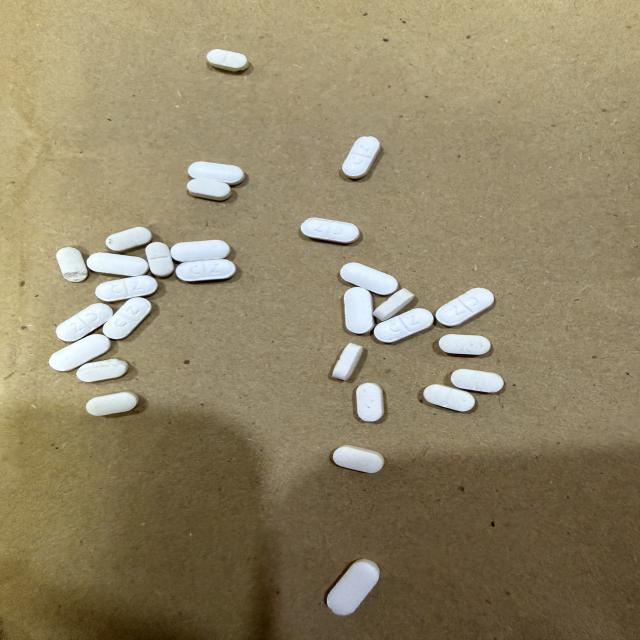pill: (327, 559, 379, 615), (49, 334, 110, 371), (436, 288, 494, 326), (56, 304, 113, 341), (374, 308, 433, 342), (103, 298, 151, 339), (340, 263, 398, 295), (343, 137, 380, 179), (96, 276, 157, 301), (301, 218, 359, 243), (87, 253, 148, 276), (344, 287, 374, 333), (333, 446, 384, 473), (424, 385, 475, 411), (176, 260, 235, 282), (171, 240, 230, 262), (188, 162, 244, 185), (374, 289, 414, 321), (85, 392, 138, 416), (451, 369, 503, 393), (77, 359, 128, 382), (106, 227, 151, 252), (56, 247, 88, 282), (332, 344, 363, 380), (356, 383, 384, 422), (439, 335, 490, 355), (146, 242, 174, 277), (187, 179, 231, 200), (207, 49, 248, 71)
